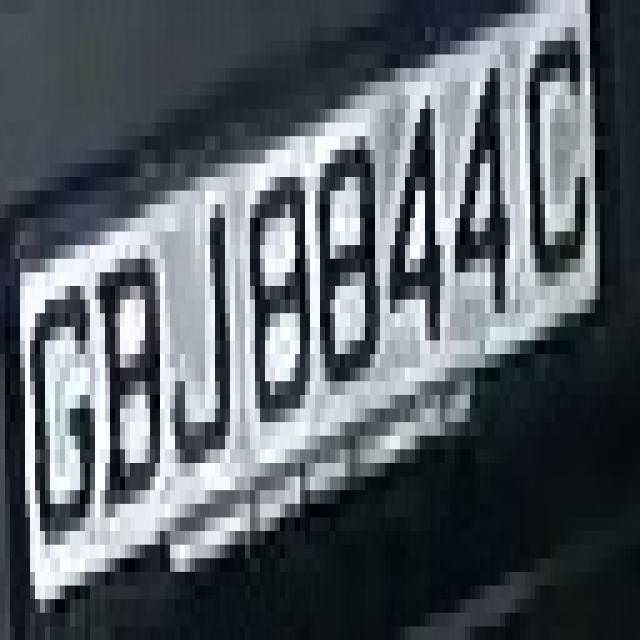4: (440, 54, 525, 382), (385, 68, 455, 422)
8: (235, 164, 315, 491), (300, 122, 395, 395)
B: (100, 232, 175, 518)
C: (525, 0, 605, 354)
G: (20, 245, 95, 586)
J: (160, 177, 250, 463)
